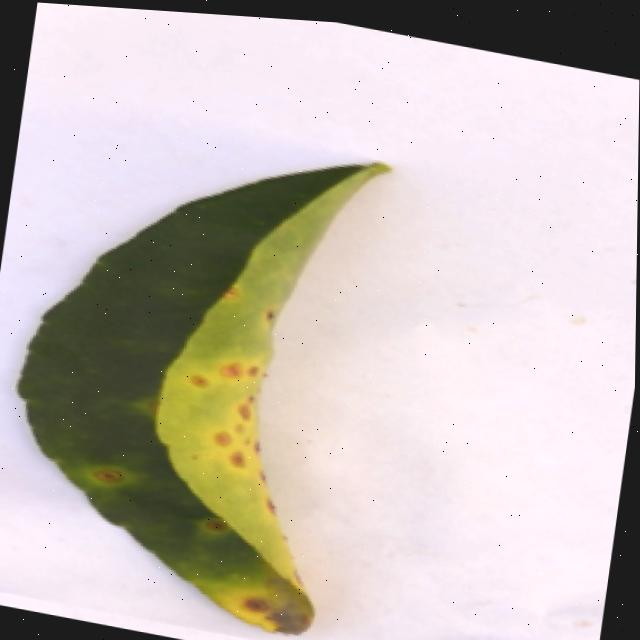canker: (22, 164, 387, 631), (175, 345, 299, 528), (202, 575, 302, 639), (61, 447, 153, 505)
